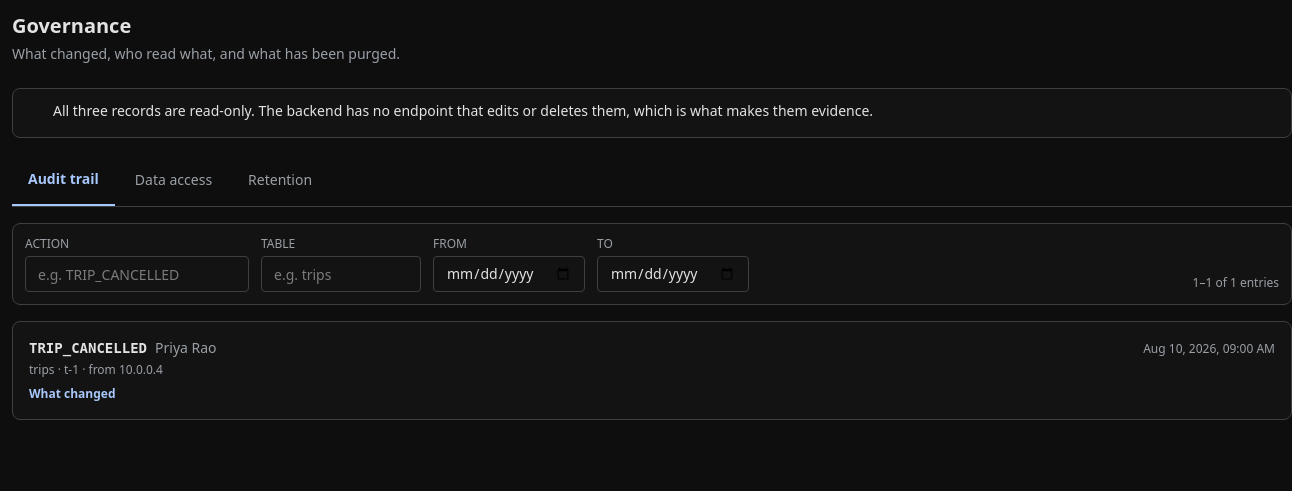
Test: the governance screen › fetches an entry’s before-and-after only when asked
The image size is (1292, 491).
expect the heading "Governance" is shown: met, box top-left (12, 12), bottom-right (131, 39)
expect the text "TRIP_CANCELLED" is shown: met, box top-left (29, 338), bottom-right (147, 358)
What coordinates should you click on to do the following:
click the button "What changed"
I would click on:
 (72, 394)
Its box is top-left (29, 386), bottom-right (116, 402).
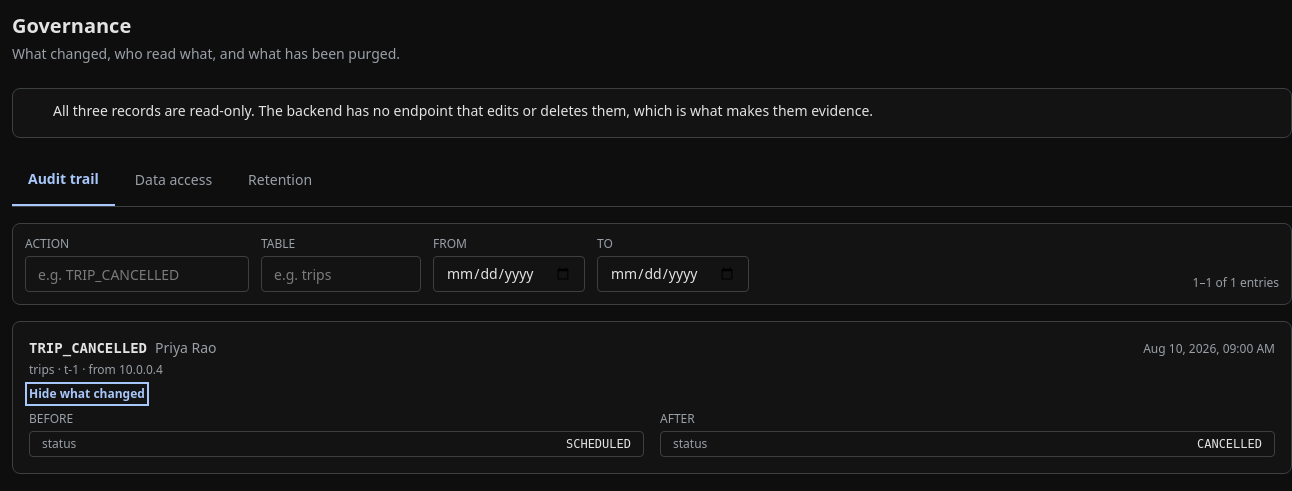
expect the text "CANCELLED" is shown: met, box top-left (1197, 436), bottom-right (1262, 452)
